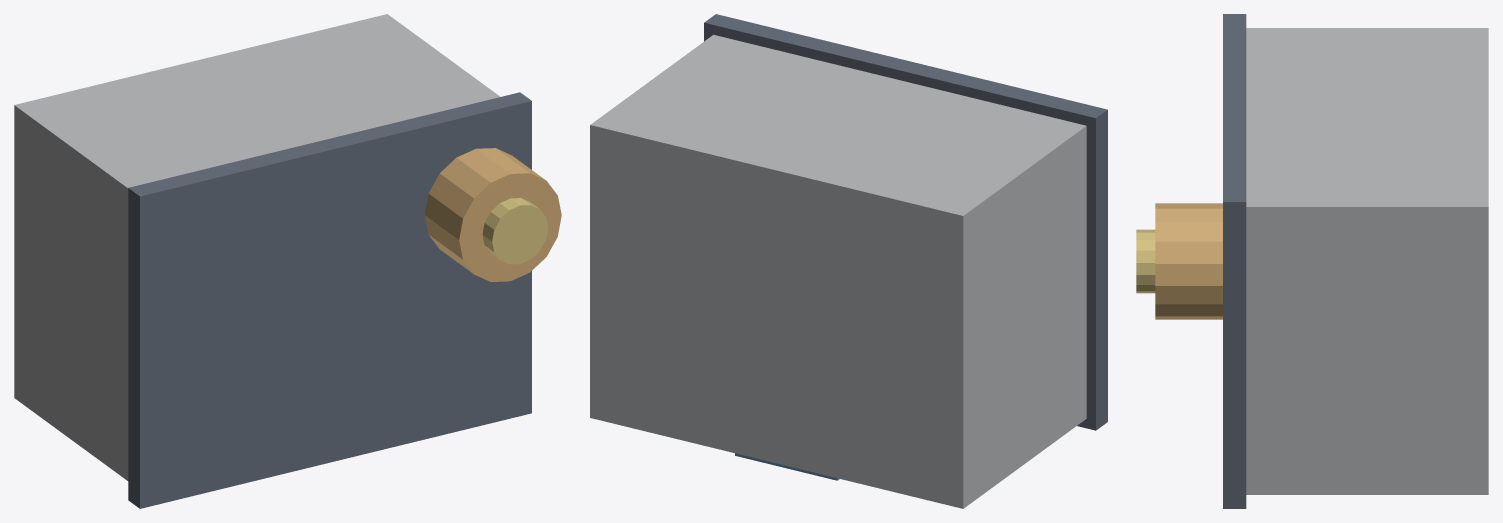
File: research_lab.glb
3 views of the same model, side by side, from view 1: azimuth 30°, elevation 25°; view 2: azimuth 150°, elevation 25°; view 3: azimuth 270°, elevation 25° (orthographic).
Parts seen in each view (by area): view 1: research_lab_1, research_lab_0, research_lab_6, research_lab_7; view 2: research_lab_0, research_lab_1; view 3: research_lab_0, research_lab_1, research_lab_6, research_lab_7.
Boxes of the visible parts, left/top/right/bottom form: research_lab_1: left=128, top=92, right=531, bottom=508; research_lab_0: left=14, top=14, right=500, bottom=480; research_lab_6: left=424, top=148, right=561, bottom=281; research_lab_7: left=482, top=198, right=547, bottom=264; research_lab_0: left=590, top=34, right=1086, bottom=508; research_lab_1: left=704, top=14, right=1107, bottom=430; research_lab_0: left=1246, top=28, right=1488, bottom=494; research_lab_1: left=1223, top=14, right=1246, bottom=508; research_lab_6: left=1155, top=203, right=1222, bottom=319; research_lab_7: left=1136, top=229, right=1155, bottom=293.
Bounding box in the file's own units: 4.2 × 3.22 × 3.33.
